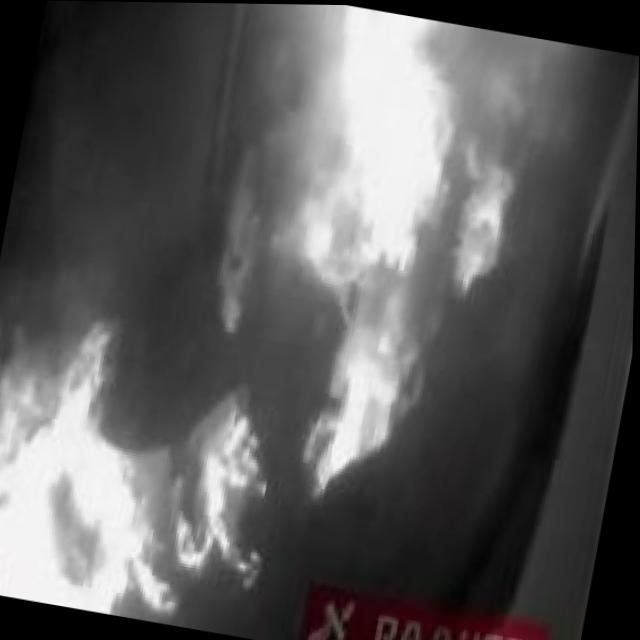fire: (157, 2, 547, 523), (0, 295, 308, 640)
